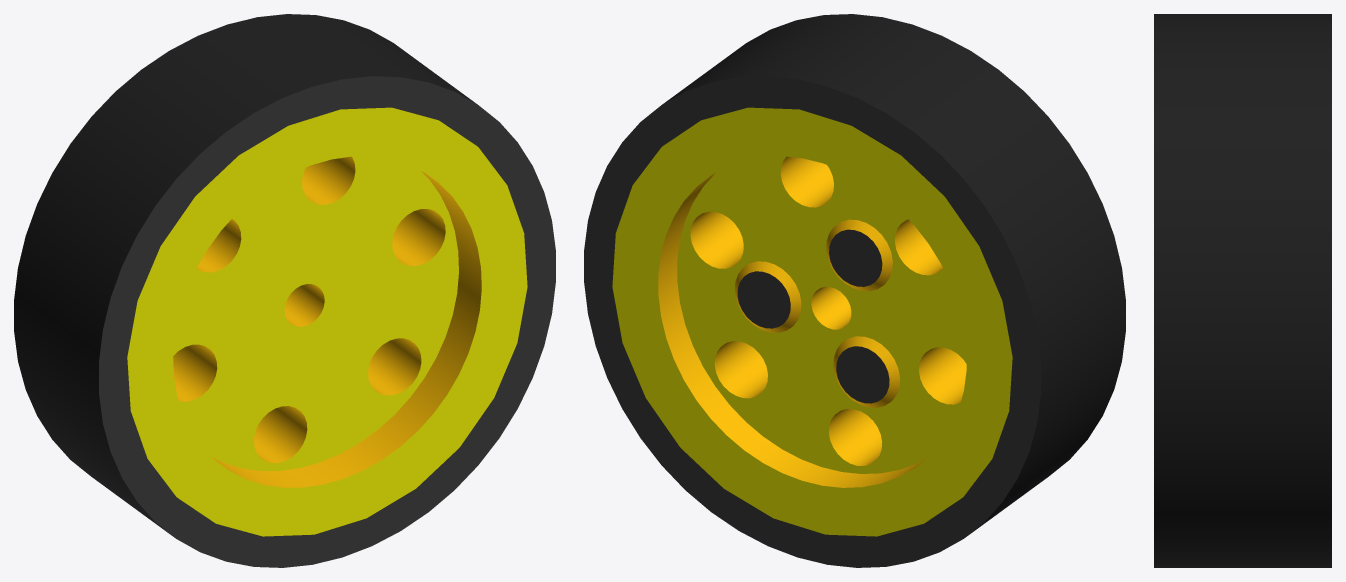
The model's file is wheel_left.dae.
The picture shows the model from 3 angles, left to right: view 1: azimuth 30°, elevation 25°; view 2: azimuth 150°, elevation 25°; view 3: azimuth 270°, elevation 25°; orthographic projection. The views are drawn at different scales.
Parts seen in each view (by area): view 1: Component_5 (×12); view 2: Component_5 (×18); view 3: Component_5.
Boxes of the visible parts, x1,y1,x2,y2 form: Component_5 (×12): (14, 14, 555, 567); Component_5 (×18): (584, 14, 1125, 567); Component_5: (1154, 14, 1331, 567).
Bounding box in the file's own units: 2.69 × 0.8661 × 2.69.
